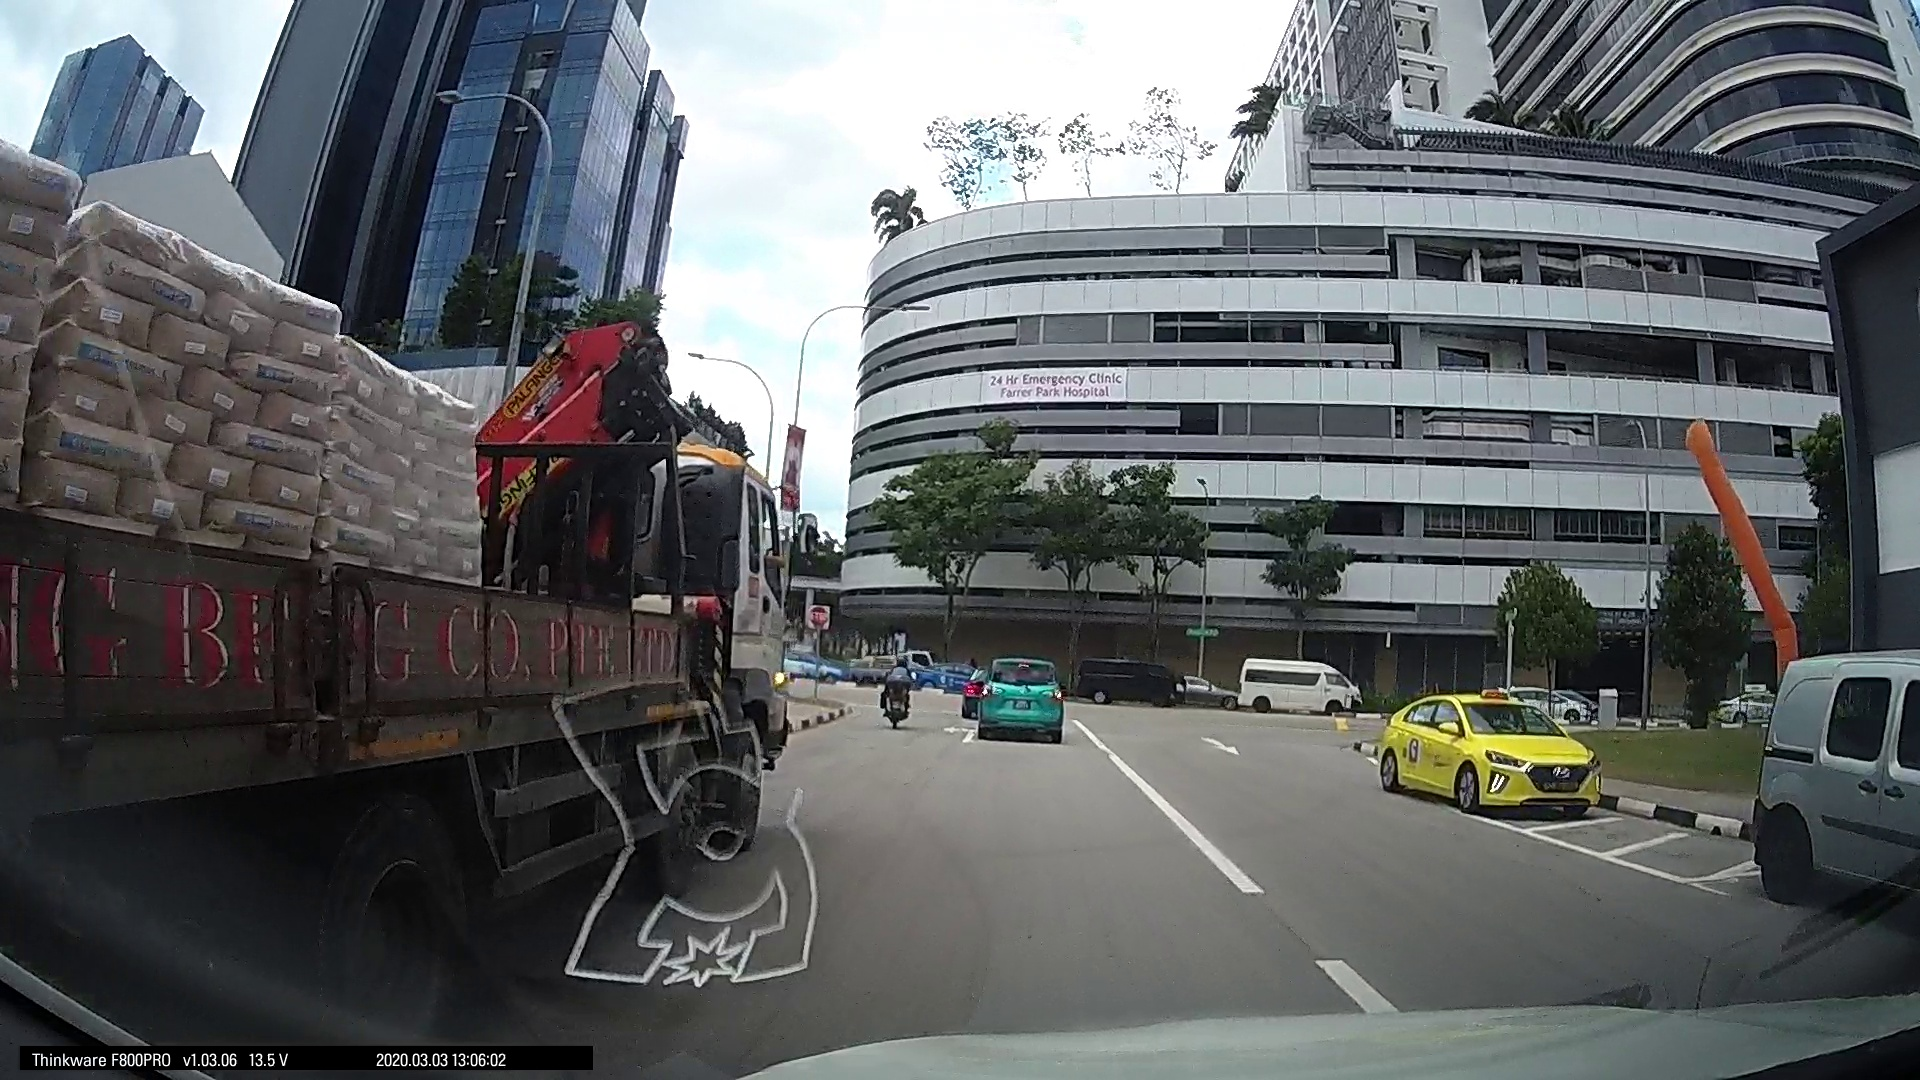Heavy Vehicle: (11, 274, 791, 998)
Light Vehicle: (1745, 644, 1917, 916), (1367, 684, 1607, 823), (1224, 653, 1356, 717), (969, 654, 1062, 741), (1072, 649, 1187, 703)
